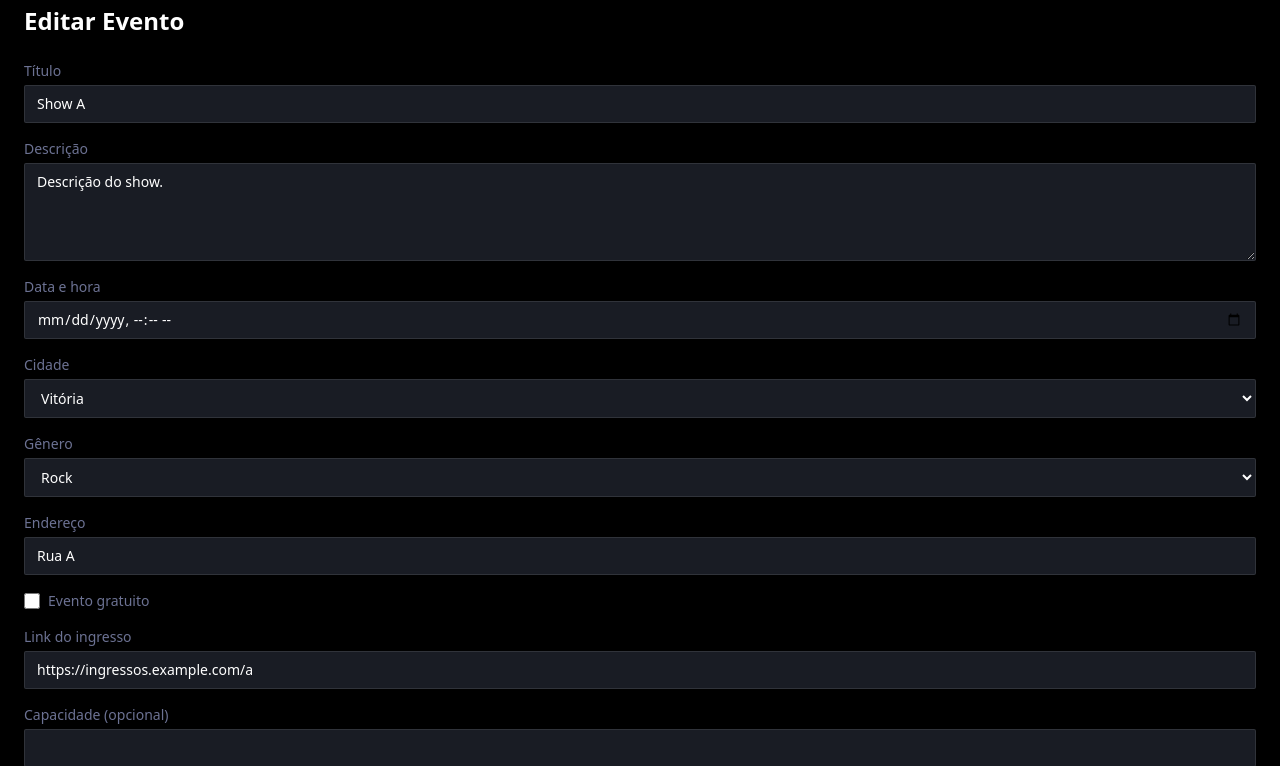
Test: app/eventos/[id]/editar/page.tsx (integration, real hooks + client + http stack) › GIVEN the API rejects the edit WHEN submitted THEN the real error message is shown instead of crashing
The image size is (1280, 766).
Replace the text in the field labelled "Título" with "Show A Editado": (640, 104) [24, 85, 1256, 123]
(page scrolled)
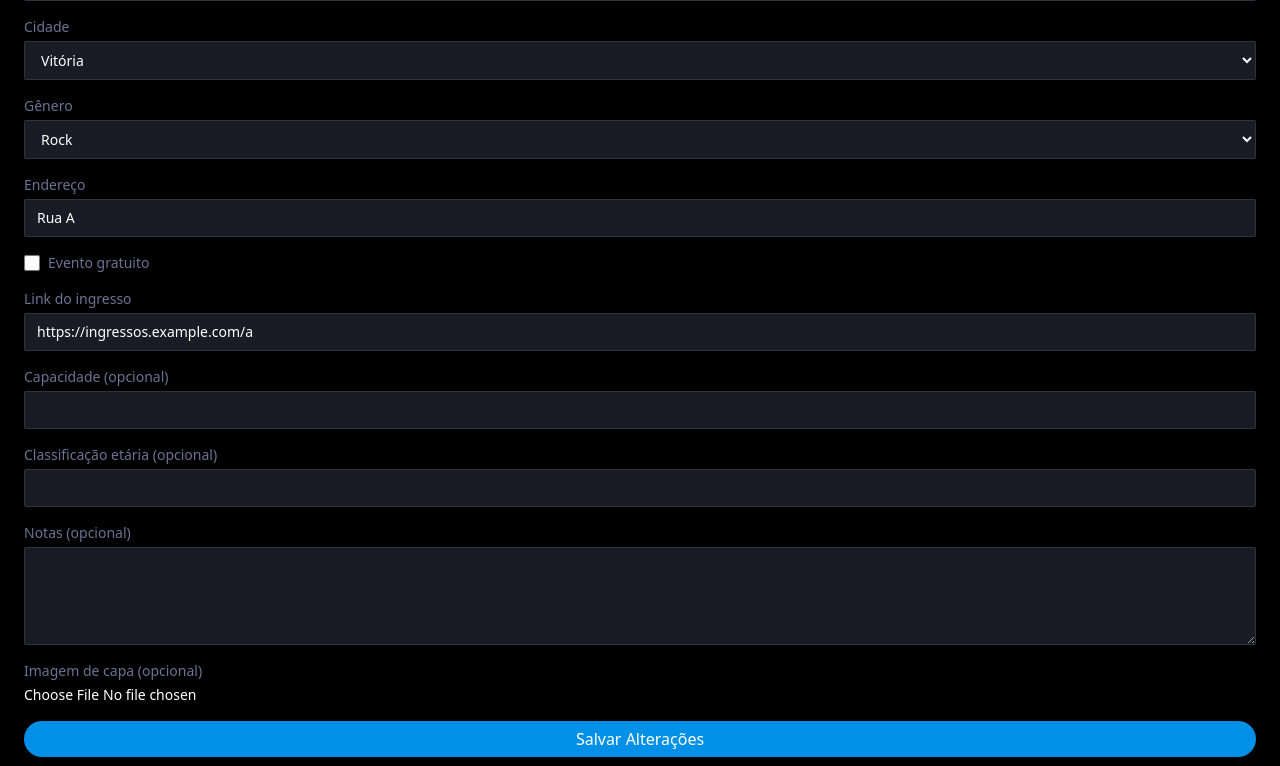
Click the button "Salvar Alterações": (640, 739) [24, 721, 1256, 757]
(page scrolled)
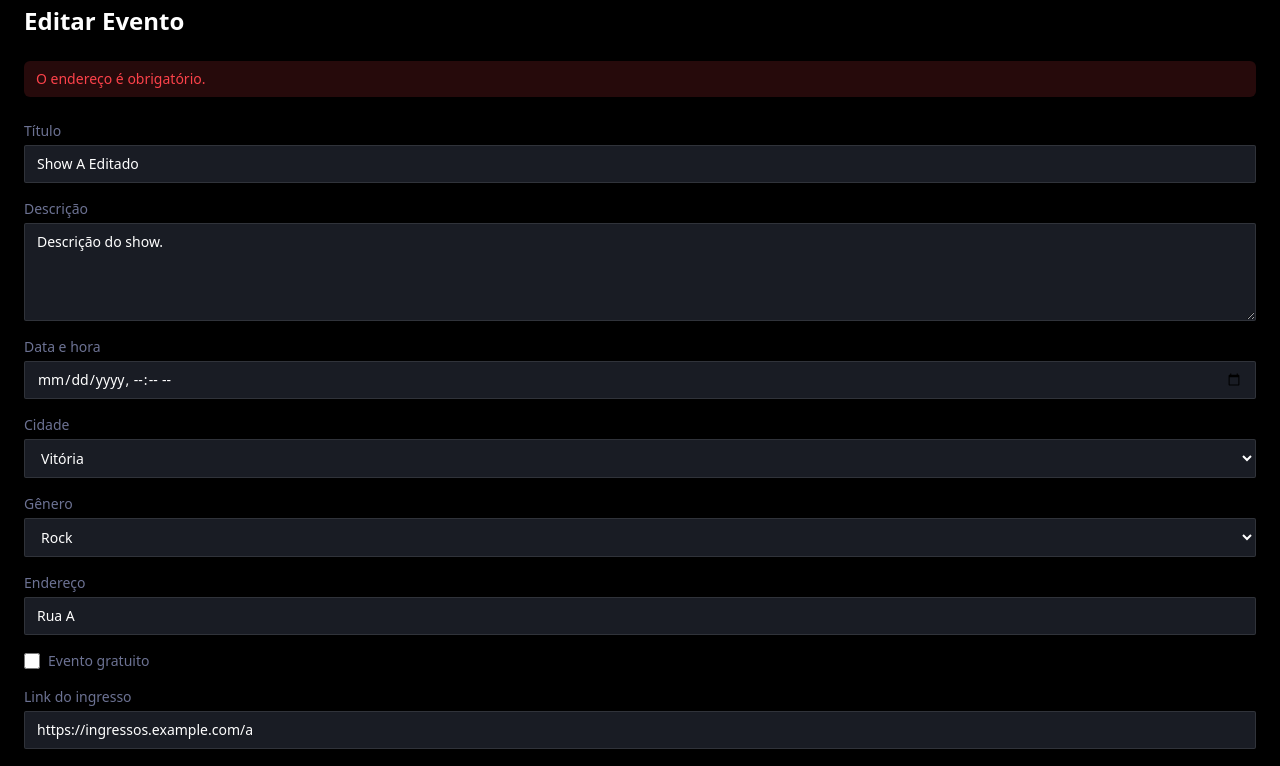
Result: the message reads "O endereço é obrigatório." at [36, 69, 206, 88]
